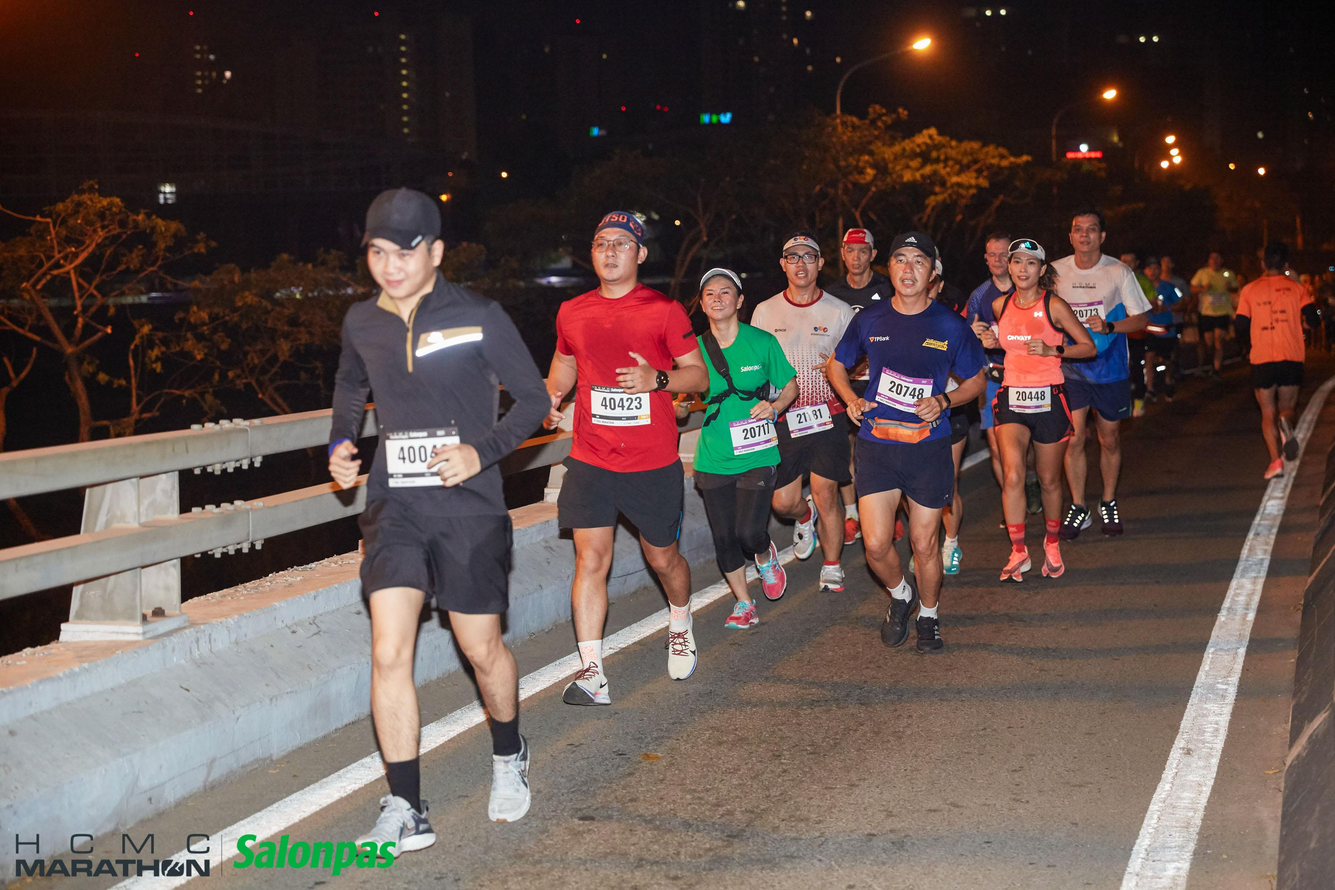bib: (384, 429, 462, 488), (873, 365, 931, 418), (590, 385, 651, 428), (783, 405, 833, 440), (730, 414, 777, 451), (1004, 383, 1052, 414), (1069, 305, 1103, 335)
